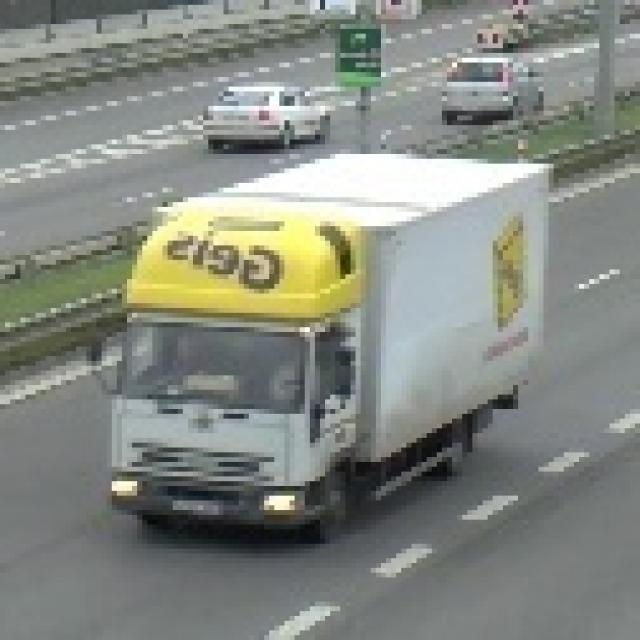truck: (81, 144, 544, 539)
